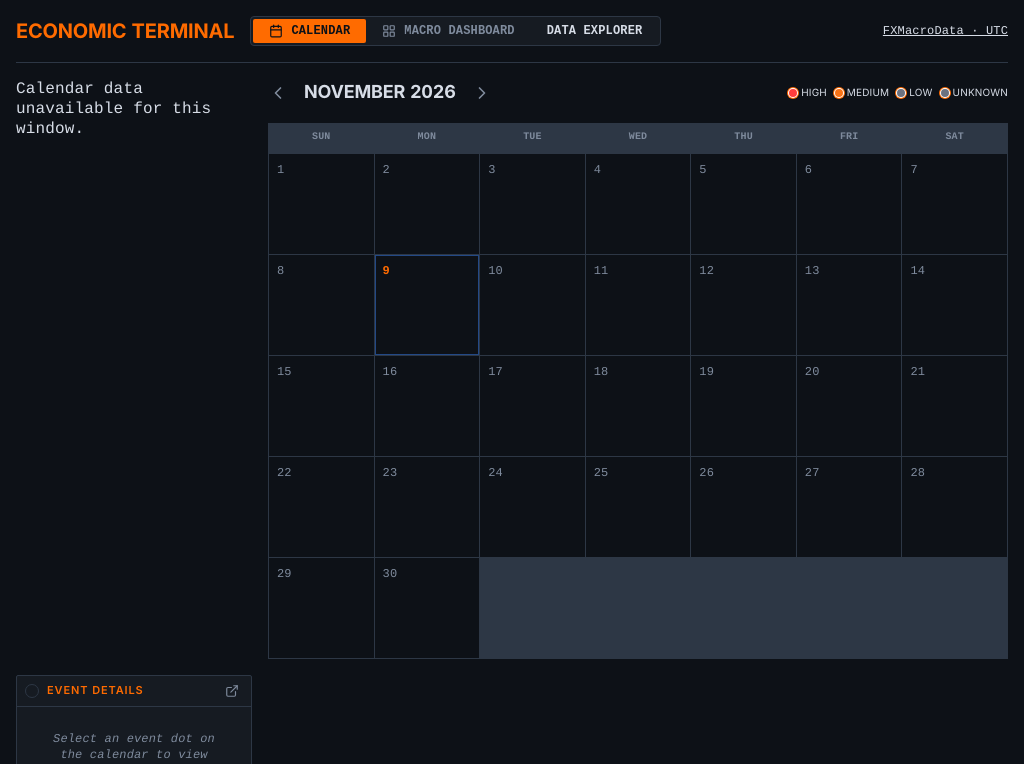
Scenario: shows unavailable calendar, provider link and real unit metadata
The width and height of the screenshot is (1024, 764).
Expected: the text "Calendar data unavailable for this window." is shown, left=16, top=80, right=211, bottom=138
Click the button "MACRO DASHBOARD" at (448,31), box left=366, top=19, right=531, bottom=43
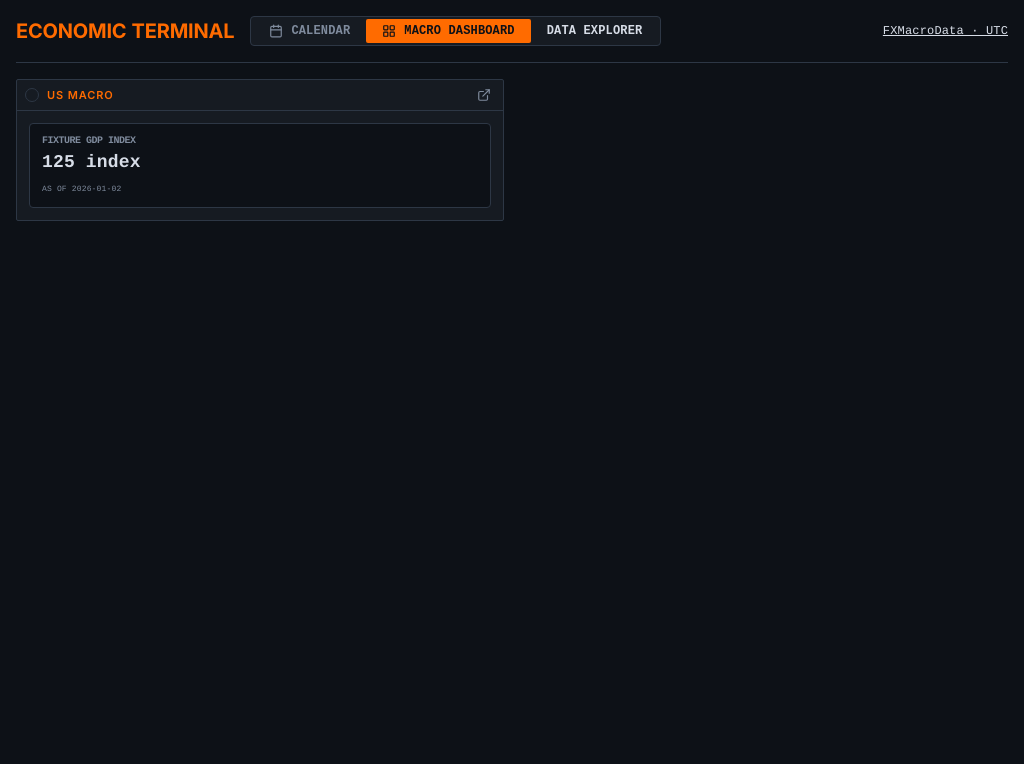
Now the text "Fixture GDP index" is shown, box left=42, top=136, right=141, bottom=148
Now the text "125 index" is shown, box left=42, top=148, right=141, bottom=176
